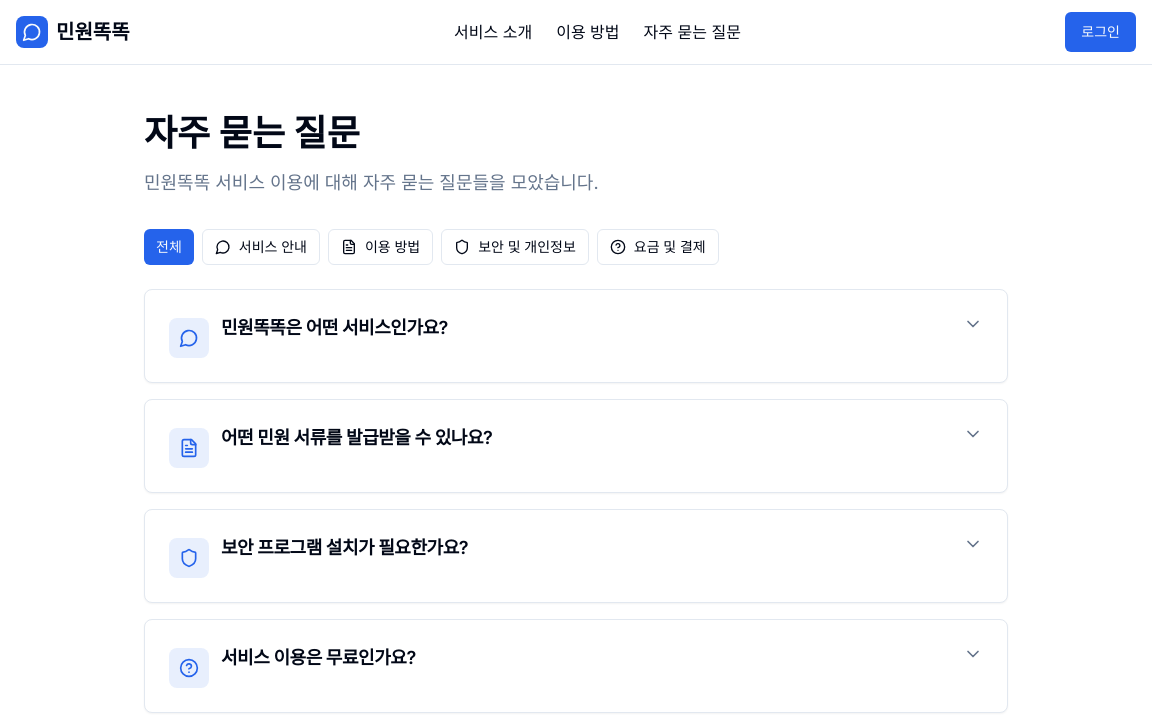
Scenario: FaqPage › FAQ 항목을 다시 클릭하면 답변이 닫혀야 함
Note: 첫 클릭: 열기
Click the heading "민원똑똑은 어떤 서비스인가요?" at (334, 328), box x1=221 y1=314 x2=448 y2=342
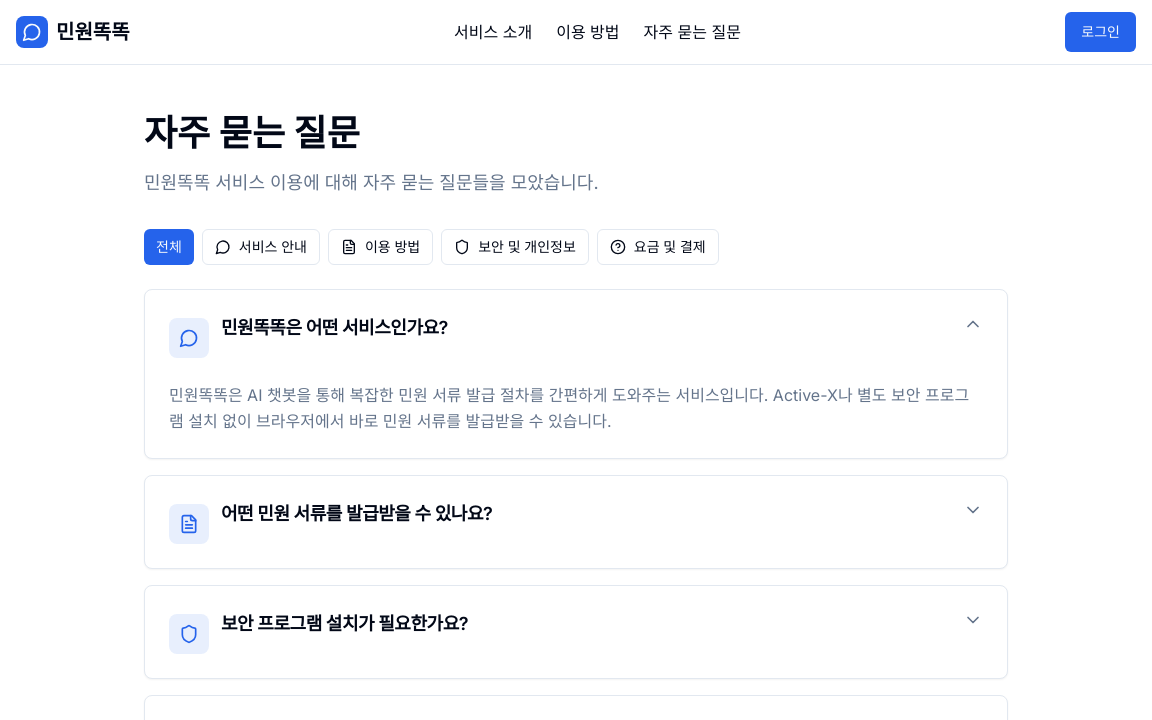
Check: the text "AI 챗봇을 통해 복잡한 민원 서류 발급" is shown, box x1=169 y1=385 x2=969 y2=431
Note: 두 번째 클릭: 닫기
Click the heading "민원똑똑은 어떤 서비스인가요?" at (334, 328), box x1=221 y1=314 x2=448 y2=342
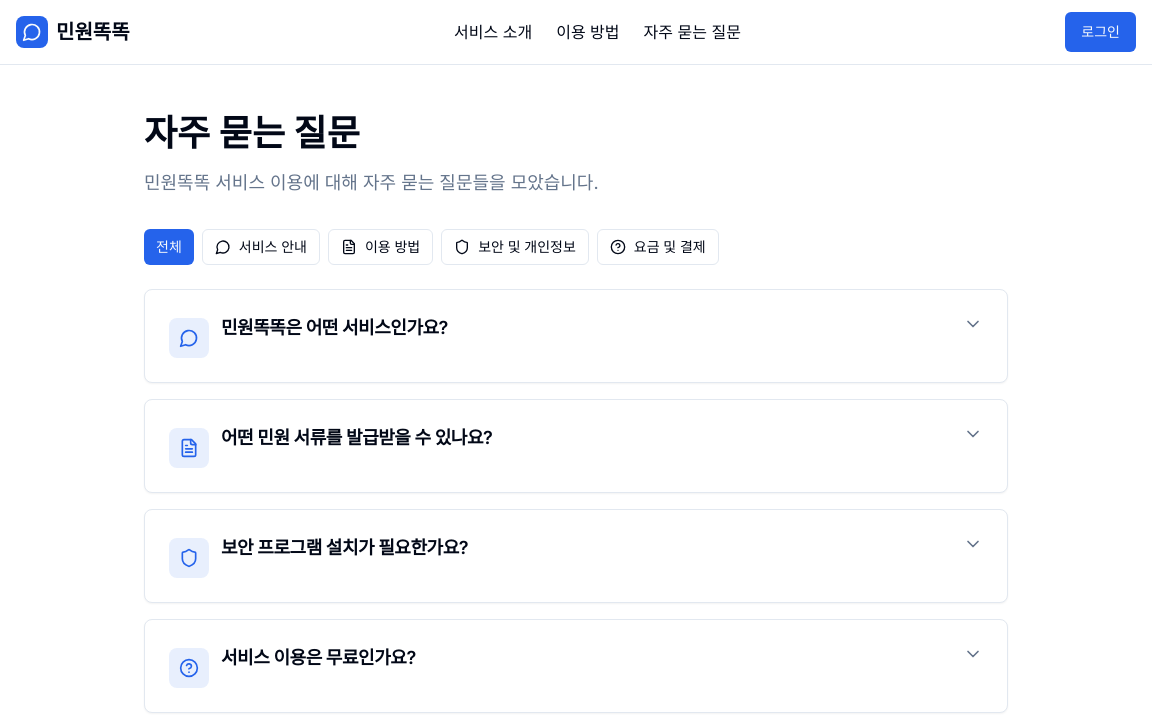
Check: the text "AI 챗봇을 통해 복잡한 민원 서류 발급" is gone
